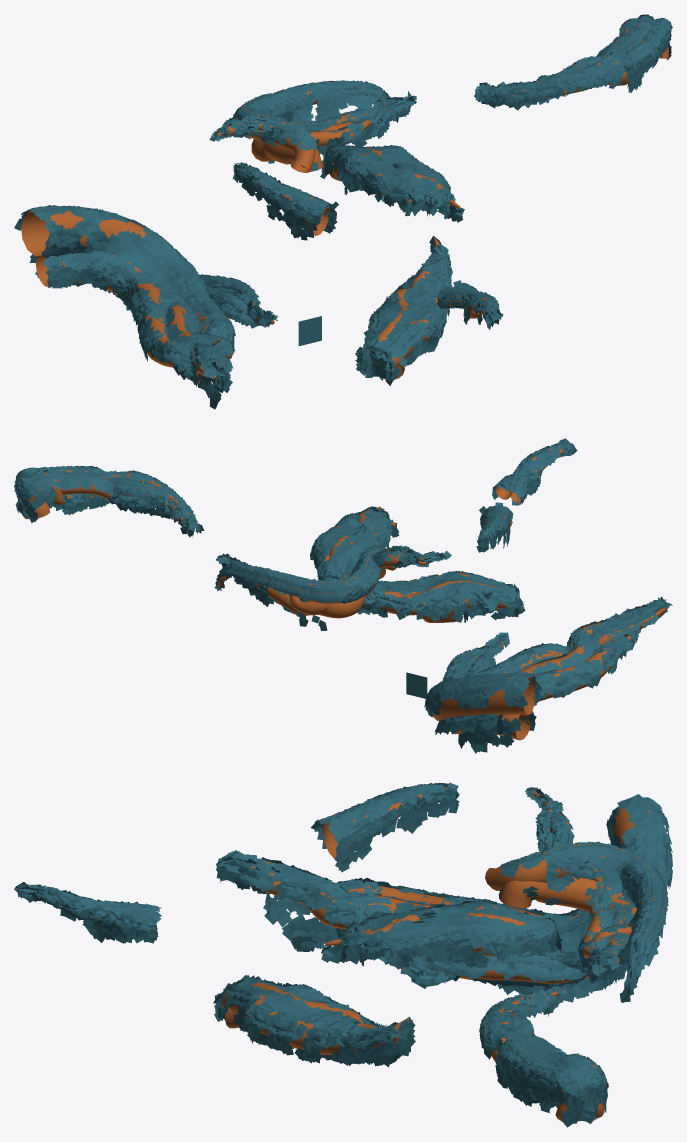
The model's file is branch_bridges.fbx.
The picture shows the model from 3 angles, top to bottom: view 1: azimuth 30°, elevation 25°; view 2: azimuth 150°, elevation 25°; view 3: azimuth 270°, elevation 25°; orthographic projection. The views are drawn at different scales.
Parts seen in each view (by area): view 1: Plane.031, Plane.034, Plane.030, Plane.032, Plane.033, bridge_1, Plane.036, bridge_5, Plane.035, bridge_3, Plane.022; view 2: Plane.031, Plane.030, Plane.034, Plane.032, Plane.033, bridge_1, bridge_5, Plane.035, Plane.036, bridge_2, bridge_3, Plane.022; view 3: Plane.031, Plane.034, Plane.033, Plane.032, Plane.030, Plane.036, bridge_5, Plane.035, bridge_1, bridge_3, BezierCurve.033, bridge_2.
Part boxes in pixels (x1,y1,x2,y2): Plane.031: (14, 205, 278, 409); Plane.034: (209, 80, 416, 171); Plane.030: (474, 14, 672, 110); Plane.032: (355, 236, 452, 385); Plane.033: (320, 145, 464, 222); bridge_1: (21, 210, 274, 383); Plane.036: (232, 162, 338, 240); bridge_5: (216, 91, 407, 172); Plane.035: (436, 280, 503, 329); bridge_3: (378, 237, 447, 378); Plane.022: (298, 316, 321, 345); Plane.031: (424, 596, 672, 753); Plane.030: (14, 466, 204, 537); Plane.034: (214, 545, 451, 631); Plane.032: (357, 570, 525, 622); Plane.033: (310, 506, 399, 580); bridge_1: (433, 607, 667, 740); bridge_5: (218, 547, 447, 618); Plane.035: (492, 438, 577, 505); Plane.036: (476, 502, 513, 552); bridge_2: (19, 470, 190, 526); bridge_3: (374, 572, 514, 622); Plane.022: (406, 672, 427, 698); Plane.031: (216, 794, 672, 1006); Plane.034: (498, 787, 668, 1002); Plane.033: (321, 900, 562, 969); Plane.032: (213, 975, 415, 1067); Plane.030: (479, 982, 608, 1127); Plane.036: (311, 782, 459, 872); bridge_5: (485, 791, 665, 980); Plane.035: (14, 882, 161, 943); bridge_1: (250, 808, 650, 984); bridge_3: (221, 982, 409, 1058); BezierCurve.033: (325, 904, 529, 955); bridge_2: (491, 990, 605, 1121).
Size of the model in its own units: 5253 by 1657 by 3966.
